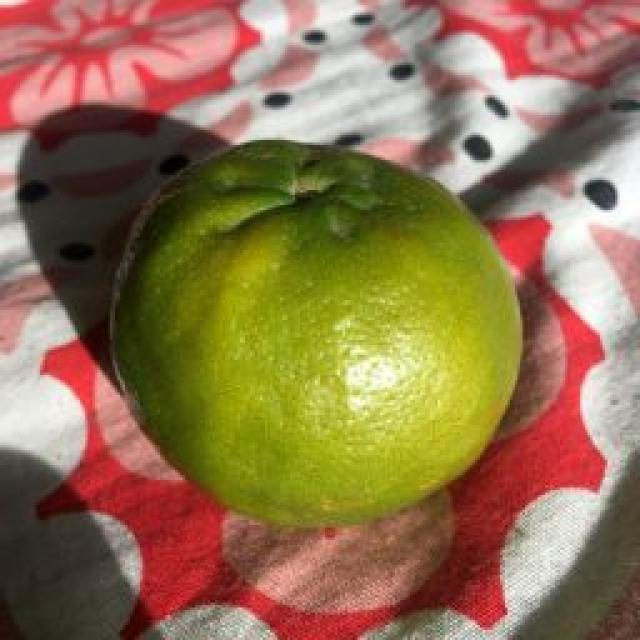Good_Orange: (108, 140, 528, 532)
